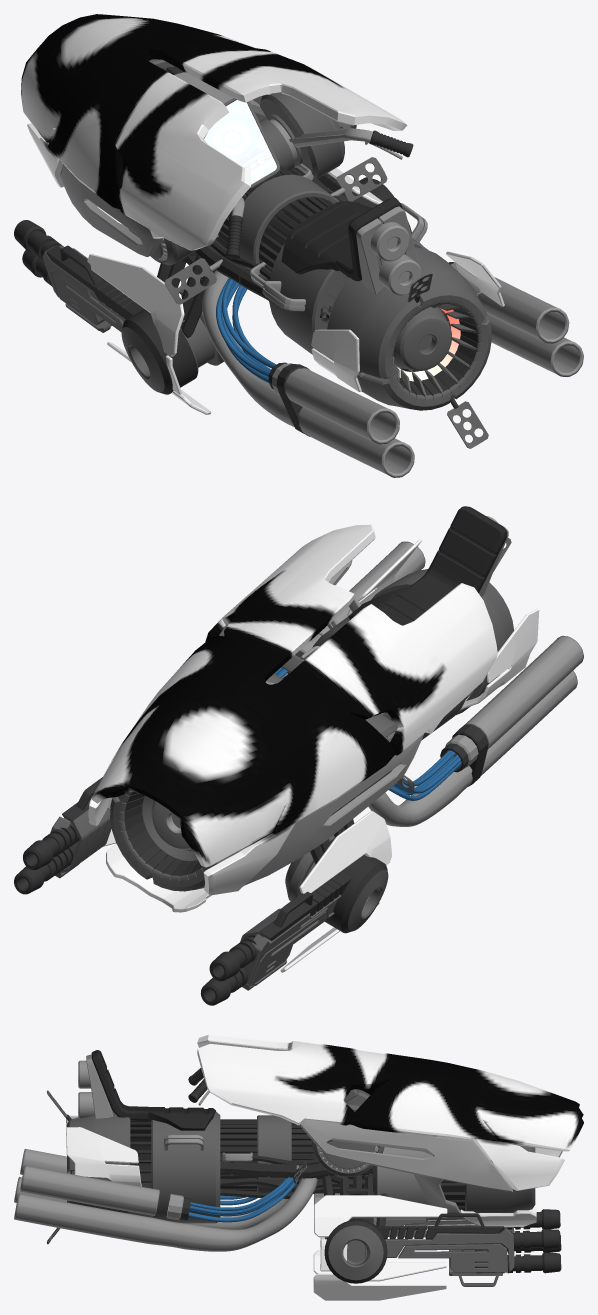
File: SUP_sci_fi_motorbike_3.glb
3 views of the same model, one above another, from view 1: azimuth 30°, elevation 25°; view 2: azimuth 150°, elevation 25°; view 3: azimuth 270°, elevation 25° (orthographic). The views are drawn at different scales.
Visible parts, largest first — view 1: SUP_sci_fi_motorbike_3; view 2: SUP_sci_fi_motorbike_3; view 3: SUP_sci_fi_motorbike_3.
Boxes of the visible parts, left/top/right/bottom form: SUP_sci_fi_motorbike_3: left=14, top=14, right=583, bottom=477; SUP_sci_fi_motorbike_3: left=14, top=506, right=583, bottom=1005; SUP_sci_fi_motorbike_3: left=14, top=1034, right=583, bottom=1300.
Size of the model in its own units: 3.93 by 4.42 by 8.95.
9 materials, 1 textured.
